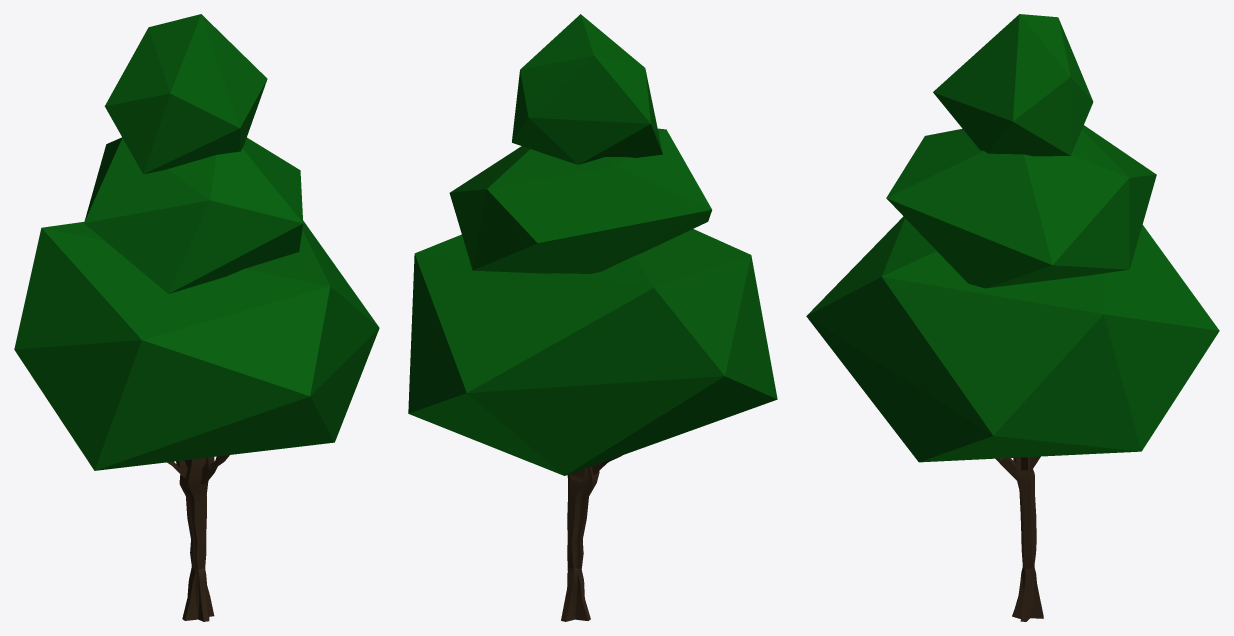
Rendered from Tree_Medium.fbx.
The picture shows the model from 3 angles, left to right: view 1: azimuth 30°, elevation 25°; view 2: azimuth 150°, elevation 25°; view 3: azimuth 270°, elevation 25°; orthographic projection.
Visible parts, largest first — view 1: Tree_Medium_Foliage, Tree_Medium_Trunk, Tree_Medium_Base; view 2: Tree_Medium_Foliage, Tree_Medium_Trunk, Tree_Medium_Base; view 3: Tree_Medium_Foliage, Tree_Medium_Trunk, Tree_Medium_Base.
Boxes of the visible parts, <box> form: Tree_Medium_Foliage: <box>14,14,379,470</box>; Tree_Medium_Trunk: <box>167,455,229,569</box>; Tree_Medium_Base: <box>182,566,214,621</box>; Tree_Medium_Foliage: <box>408,14,777,475</box>; Tree_Medium_Trunk: <box>567,455,621,568</box>; Tree_Medium_Base: <box>561,566,590,621</box>; Tree_Medium_Foliage: <box>806,14,1219,462</box>; Tree_Medium_Trunk: <box>995,456,1040,569</box>; Tree_Medium_Base: <box>1012,565,1043,621</box>.
Size of the model in its own units: 324 by 566 by 353.
